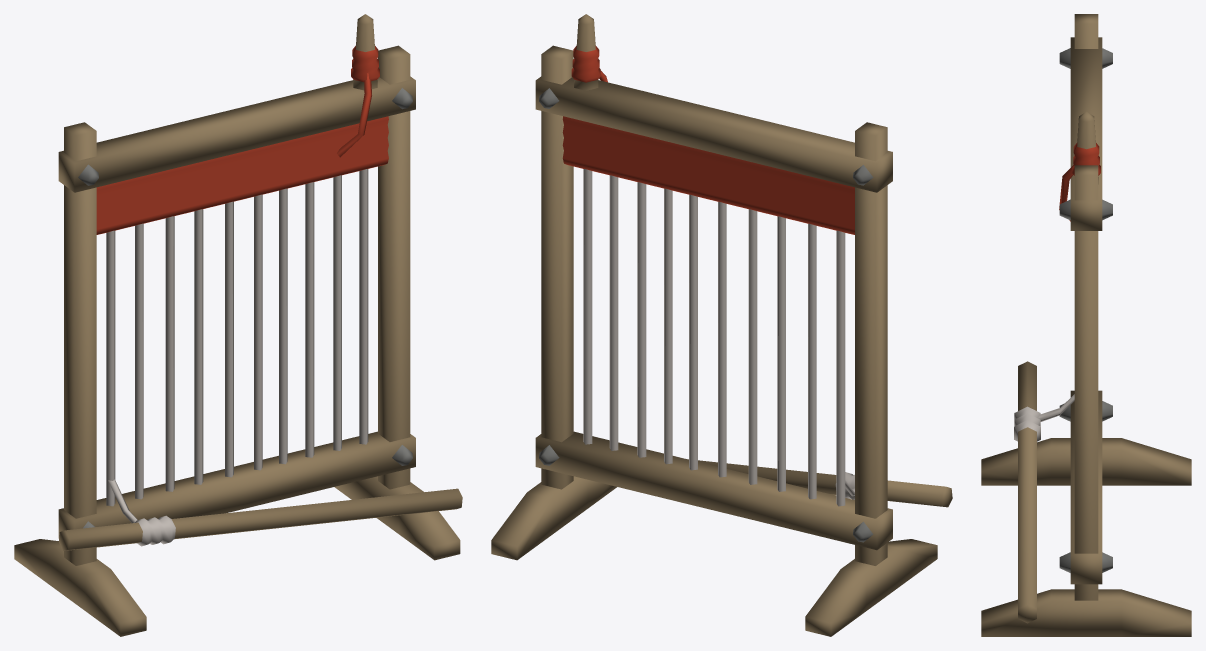
The model's file is rpgpp_ag_cloth_tool_01.fbx.
3 renders of one model, left to right at view 1: azimuth 30°, elevation 25°; view 2: azimuth 150°, elevation 25°; view 3: azimuth 270°, elevation 25°, orthographic.
Visible parts, largest first — view 1: rpgpp_ag_cloth_tool_01; view 2: rpgpp_ag_cloth_tool_01; view 3: rpgpp_ag_cloth_tool_01.
Part boxes in pixels (bbox=[...]): rpgpp_ag_cloth_tool_01: bbox=[14, 14, 462, 636]; rpgpp_ag_cloth_tool_01: bbox=[491, 14, 952, 636]; rpgpp_ag_cloth_tool_01: bbox=[981, 14, 1191, 636].
Size of the model in its own units: 1.09 by 1.35 by 0.5091.
